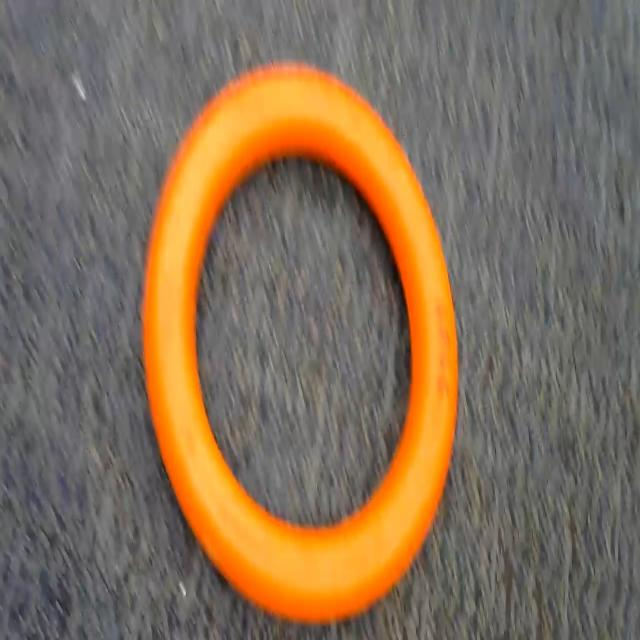note: (146, 62, 462, 610)
